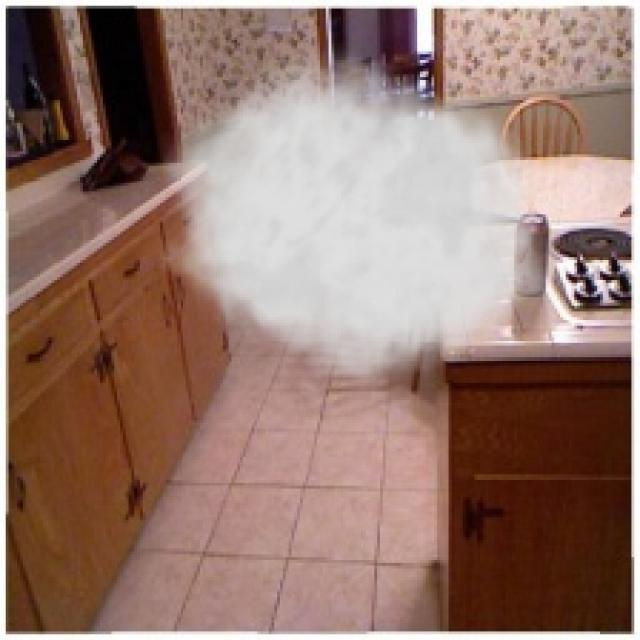smoke: (157, 40, 563, 391)
